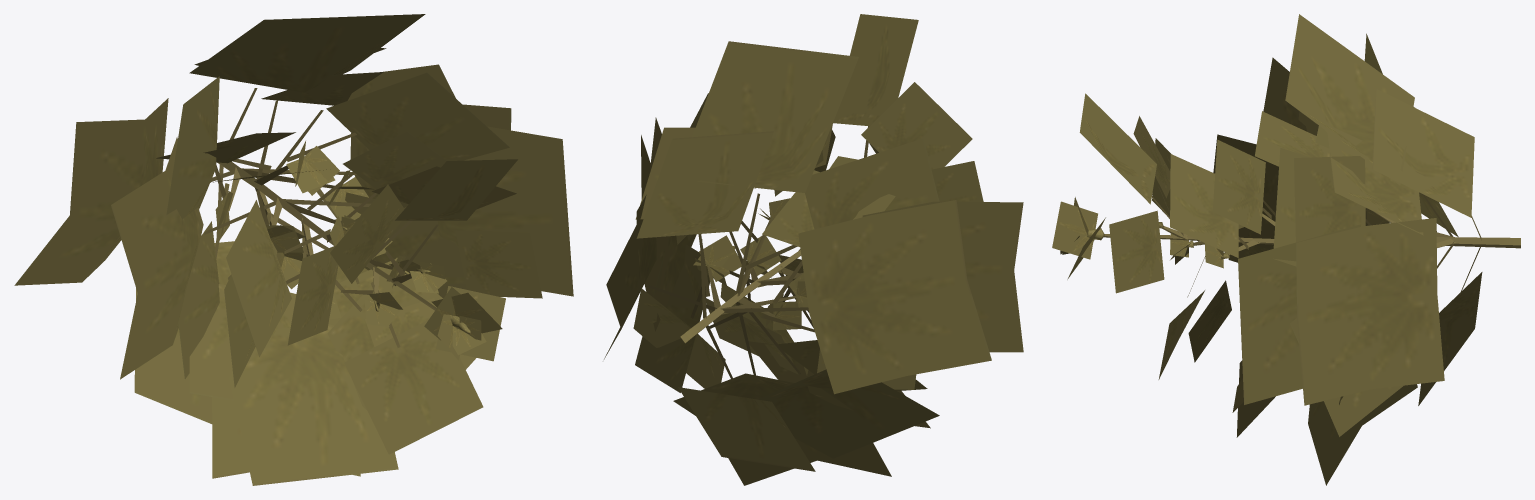
File: p_landrace_preflower_c2_cards.obj
The picture shows the model from 3 angles, left to right: view 1: azimuth 30°, elevation 25°; view 2: azimuth 150°, elevation 25°; view 3: azimuth 270°, elevation 25°; orthographic projection. The views are drawn at different scales.
Size of the model in its own units: 1.61 by 1.59 by 1.59.
1 material, 1 textured.
